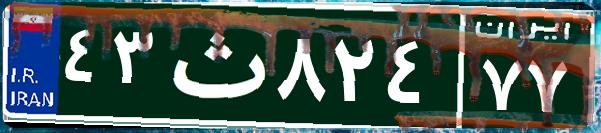2: (330, 28, 385, 110)
3: (110, 28, 158, 105)
4: (385, 28, 445, 110), (57, 26, 110, 107)
7: (475, 38, 525, 113), (525, 38, 570, 115)
8: (273, 28, 330, 110)
ث: (158, 15, 273, 115)
